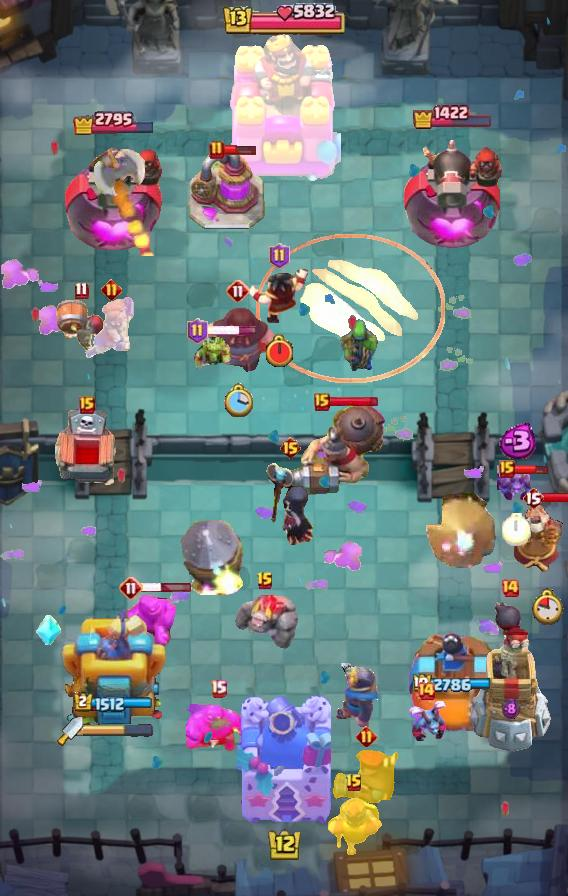bar: (62, 601, 166, 731)
clock: (221, 0, 347, 40)
earthquake: (325, 793, 383, 857)
electro-spirit: (494, 423, 538, 459), (501, 698, 518, 720)
elixir: (532, 587, 564, 624), (223, 383, 253, 419), (265, 335, 296, 369), (502, 514, 531, 546)
elixir-collector: (506, 498, 568, 576)
elixir-golem-mid: (52, 408, 122, 494)
emote: (328, 396, 379, 409), (140, 582, 192, 594), (206, 325, 259, 336), (513, 464, 549, 477), (223, 144, 256, 156), (542, 492, 568, 504)
firecracker: (334, 664, 379, 729)
giant-snowball: (339, 317, 379, 375)
ice-wizard: (256, 233, 444, 383)
king-tower: (227, 29, 341, 181), (237, 696, 331, 826)
king-tower-bar: (83, 724, 153, 738)
knight: (53, 298, 109, 356)
lumberjack: (246, 266, 312, 324)
pad_2: (35, 615, 61, 647)
pekka: (187, 149, 265, 231)
phoenix-small: (331, 743, 401, 805)
queen-tower: (407, 633, 499, 731)
rascal-boy: (265, 462, 315, 550)
royal-delivery: (405, 701, 447, 741), (497, 465, 535, 503)
royal-giant: (92, 132, 146, 196)
royal-hog: (196, 307, 280, 375)
selected: (72, 109, 156, 135), (412, 104, 494, 130), (74, 691, 154, 713), (413, 674, 493, 694)
tesla-evolution: (83, 294, 139, 360)
text: (226, 279, 250, 303), (119, 576, 143, 600), (278, 436, 301, 460), (270, 243, 291, 269), (188, 318, 209, 344), (522, 486, 544, 510), (101, 280, 122, 301), (355, 726, 376, 747), (500, 578, 520, 598), (416, 681, 436, 701), (256, 571, 274, 591), (345, 773, 363, 793), (209, 679, 227, 697), (209, 140, 225, 160), (314, 393, 330, 411), (79, 396, 95, 414), (499, 460, 515, 478), (75, 281, 89, 300)
tornado: (120, 593, 176, 653), (186, 703, 250, 753)
tower-bar: (401, 132, 508, 256), (63, 138, 164, 256)
valkyrie-evolution: (231, 589, 299, 649)
wizard: (276, 400, 388, 498)
x-bow: (411, 489, 497, 571), (180, 517, 243, 595)
zap: (194, 333, 232, 377)
zappy: (466, 596, 553, 754)
